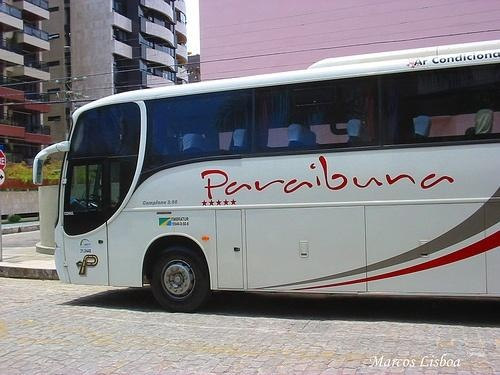bus: (34, 40, 500, 315)
